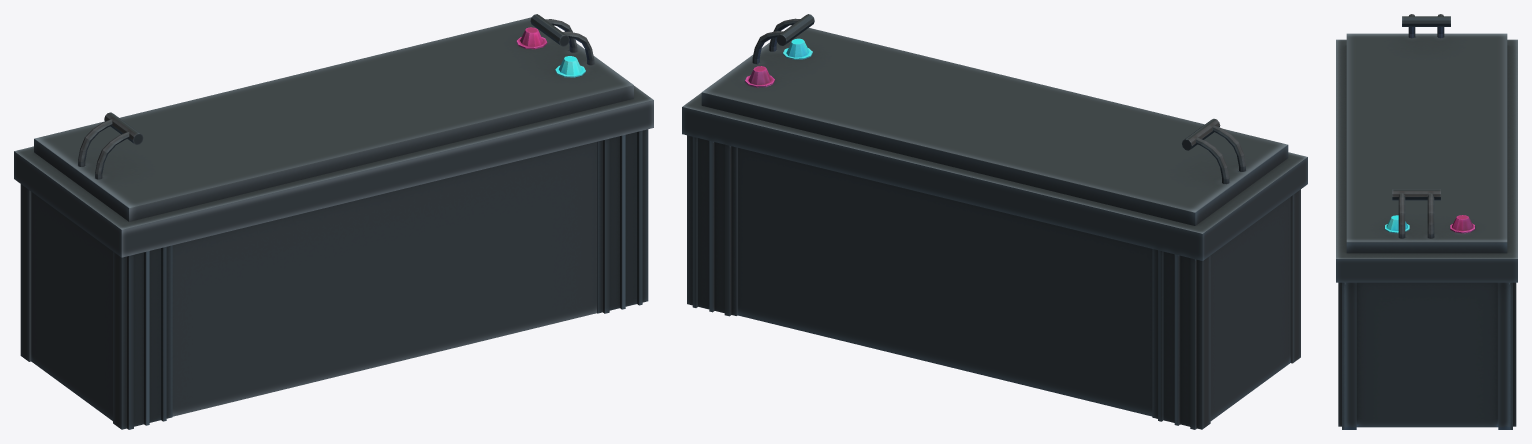
File: Car_battery .fbx
3 views of the same model, side by side, from view 1: azimuth 30°, elevation 25°; view 2: azimuth 150°, elevation 25°; view 3: azimuth 270°, elevation 25° (orthographic). The views are drawn at different scales.
Parts seen in each view (by area): view 1: Car_battery:polySurface1; view 2: Car_battery:polySurface1; view 3: Car_battery:polySurface1.
Part boxes in pixels (bbox=[...]): Car_battery:polySurface1: bbox=[14, 14, 653, 429]; Car_battery:polySurface1: bbox=[682, 14, 1307, 429]; Car_battery:polySurface1: bbox=[1336, 14, 1517, 429].
Bounding box in the file's own units: 1.23 × 0.5658 × 0.4287.
